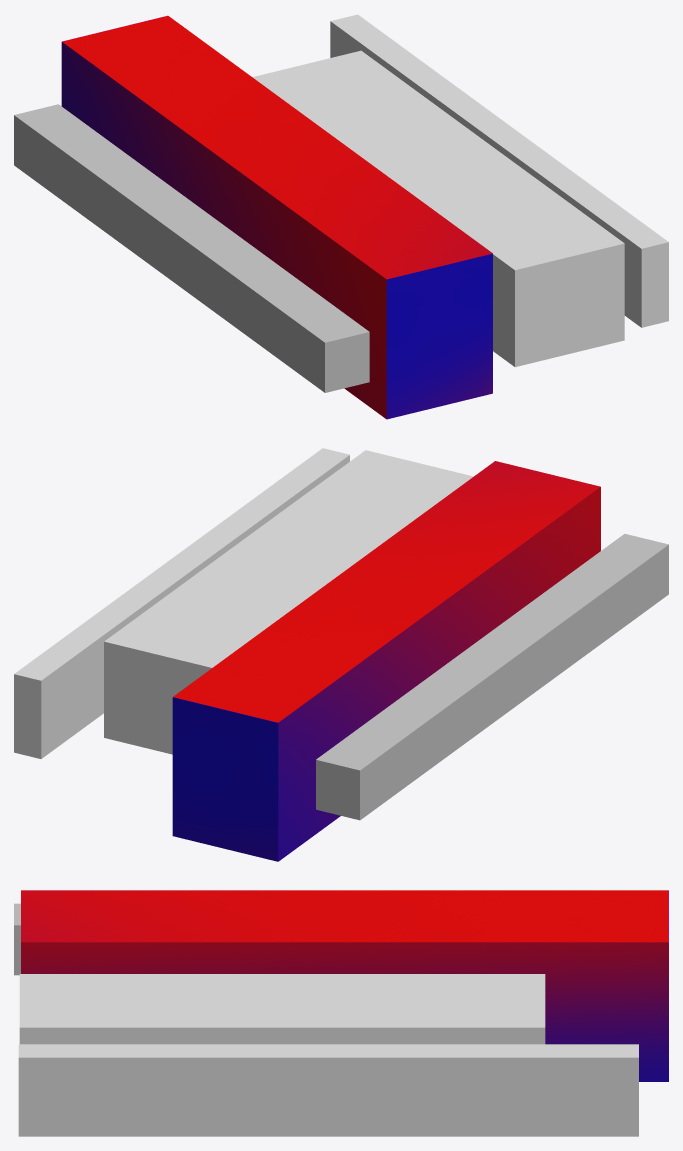
File: Marker_38_Mesh2.fbx
The picture shows the model from 3 angles, top to bottom: view 1: azimuth 30°, elevation 25°; view 2: azimuth 150°, elevation 25°; view 3: azimuth 270°, elevation 25°; orthographic projection.
Parts seen in each view (by area): view 1: Cube, Cube.001, Cube.002, Cube.003; view 2: Cube, Cube.001, Cube.002, Cube.003; view 3: Cube, Cube.003, Cube.001, Cube.002.
Boxes of the visible parts, x1,y1,x2,y2 form: Cube: [61, 15, 492, 419]; Cube.001: [252, 50, 624, 367]; Cube.002: [14, 104, 369, 392]; Cube.003: [330, 14, 668, 327]; Cube: [172, 461, 600, 861]; Cube.001: [104, 450, 473, 754]; Cube.002: [316, 534, 668, 820]; Cube.003: [14, 448, 349, 758]; Cube: [21, 890, 668, 1081]; Cube.003: [18, 1044, 638, 1136]; Cube.001: [19, 974, 545, 1044]; Cube.002: [14, 903, 20, 975].
Size of the model in its own units: 404 by 156 by 663.
